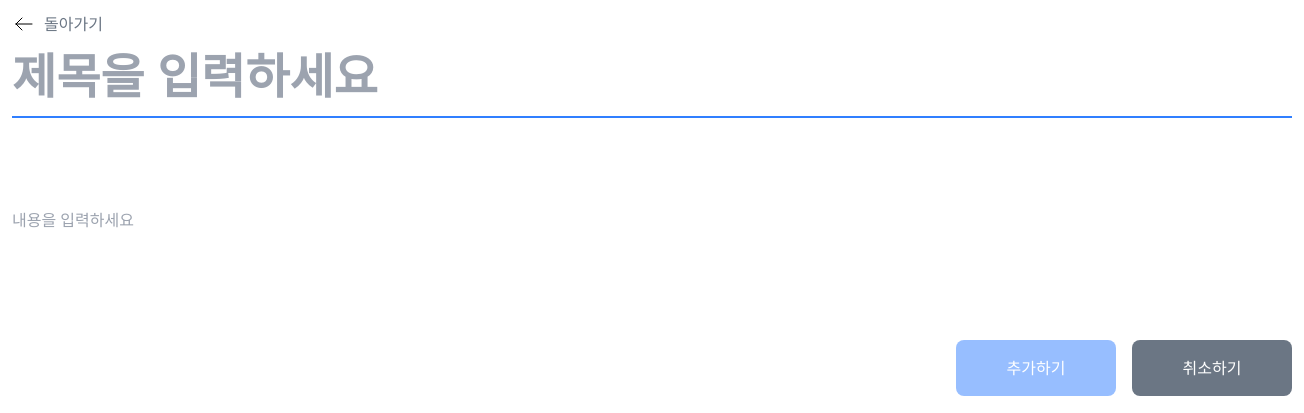
Scenario: WikiContent 페이지 테스트 › 제목과 본문에 텍스트가 입력되면, 추가하기 버튼은 활성화된다.
The image size is (1304, 413).
Type "제목 텍스트 입력" into the text box with placeholder "제목을 입력하세요".
click(652, 77); type("제목 텍스트 입력")  # box [12, 36, 1292, 118]
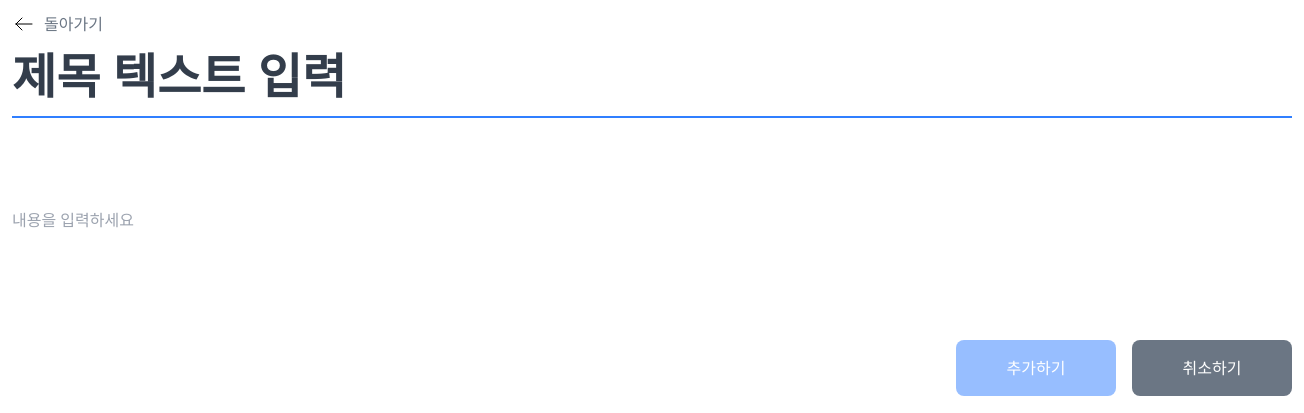
Type "내용 텍스트 입력" into the text box with placeholder "내용을 입력하세요".
click(652, 232); type("내용 텍스트 입력")  # box [12, 204, 1292, 260]
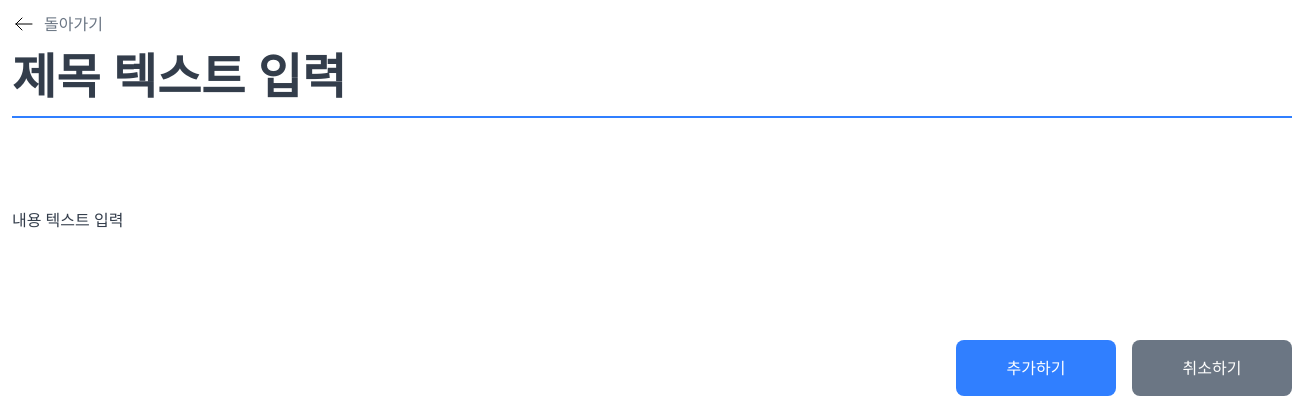
expect the button "추가하기" is enabled: met, box [956, 340, 1116, 396]
